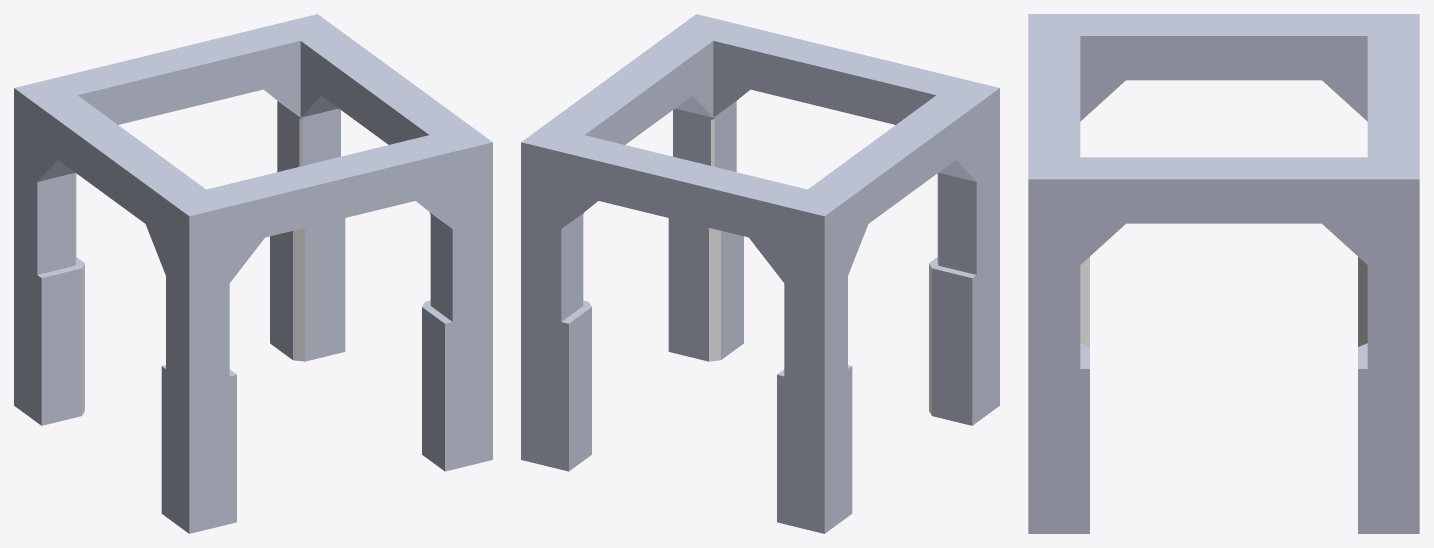
3 views of the same model, side by side, from view 1: azimuth 30°, elevation 25°; view 2: azimuth 150°, elevation 25°; view 3: azimuth 270°, elevation 25° (orthographic). The views are drawn at different scales.
Parts seen in each view (by area): view 1: object_033; view 2: object_033; view 3: object_033.
Part boxes in pixels (x1,y1,x2,y2): object_033: (14, 14, 492, 533); object_033: (521, 14, 999, 533); object_033: (1028, 14, 1419, 533).
Bounding box in the file's own units: 1 × 1 × 1.
